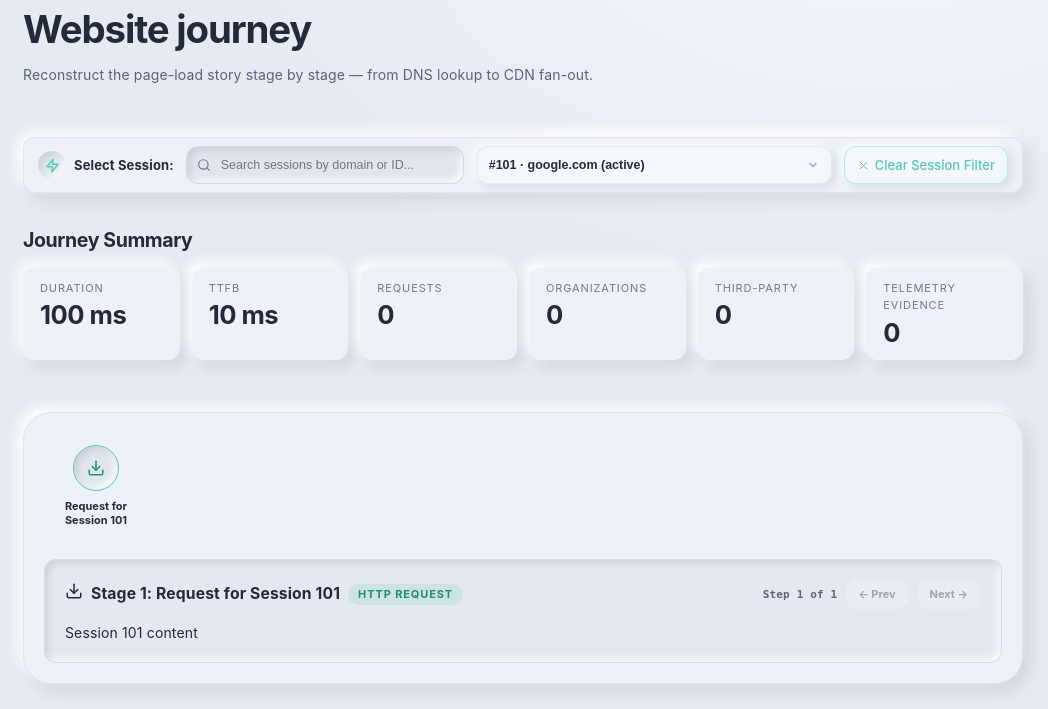
Test: Journey Screen & useJourneyController › resets dropdown and restores latest session view when clicking Clear Session Filter
Check: the button with aria-label "Clear active session filter" is shown, box [844,146,1008,184]
// Change dropdown manually to set selectedSessionId in state
Select "#101 · google.com (active)" in the dropdown labelled "Select Session:" at (654, 165), box [476,146,832,184]
// Click Clear Session Filter
Click the button with aria-label "Clear active session filter" at (926, 165), box [844,146,1008,184]
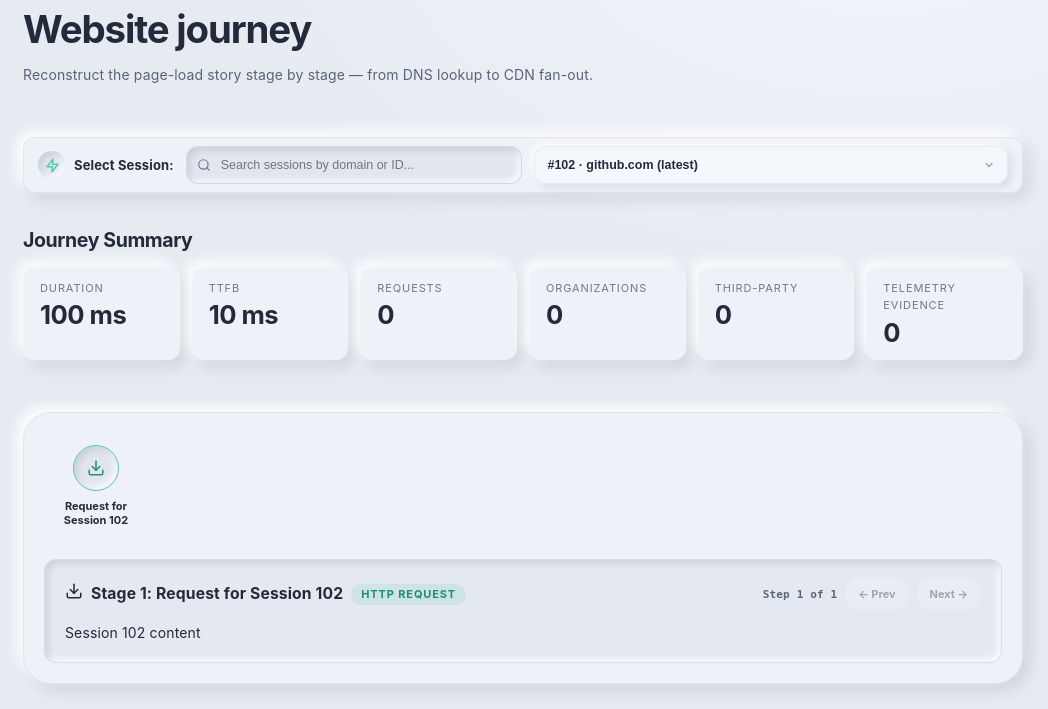
Check: the dropdown labelled "Select Session:" shows "#102 · github.com (latest)", box [534,146,1008,184]
Check: the text "Request for Session 102" is shown, box [64,499,128,527]
